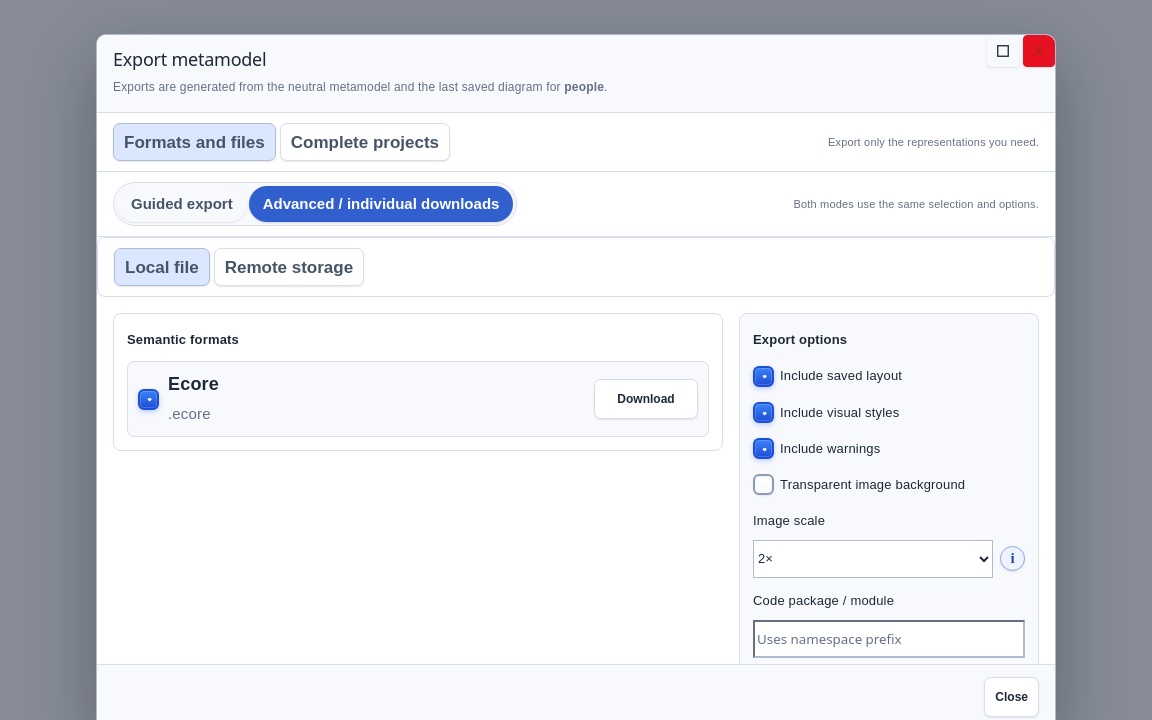
Scenario: complete metamodel project exports › requires an explicit editor when more than one stored editor can feed a graphical target
Click the button "Complete projects": click(365, 142) 280,123 -> 450,161
(page scrolled)
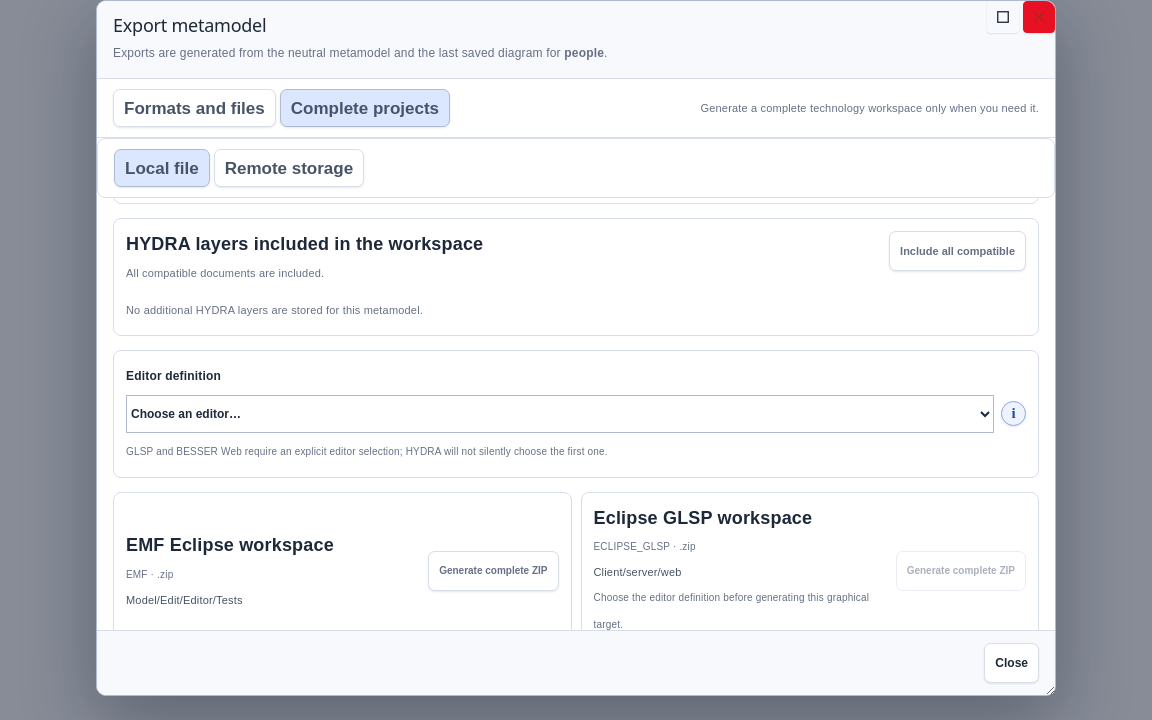
Result: the button "Generate complete ZIP" in the row of "Client/server/web" is disabled at 896,551 -> 1026,591
Select "Editor · B" in the dropdown named "Editor definition for complete project": (560, 414) 126,395 -> 994,433
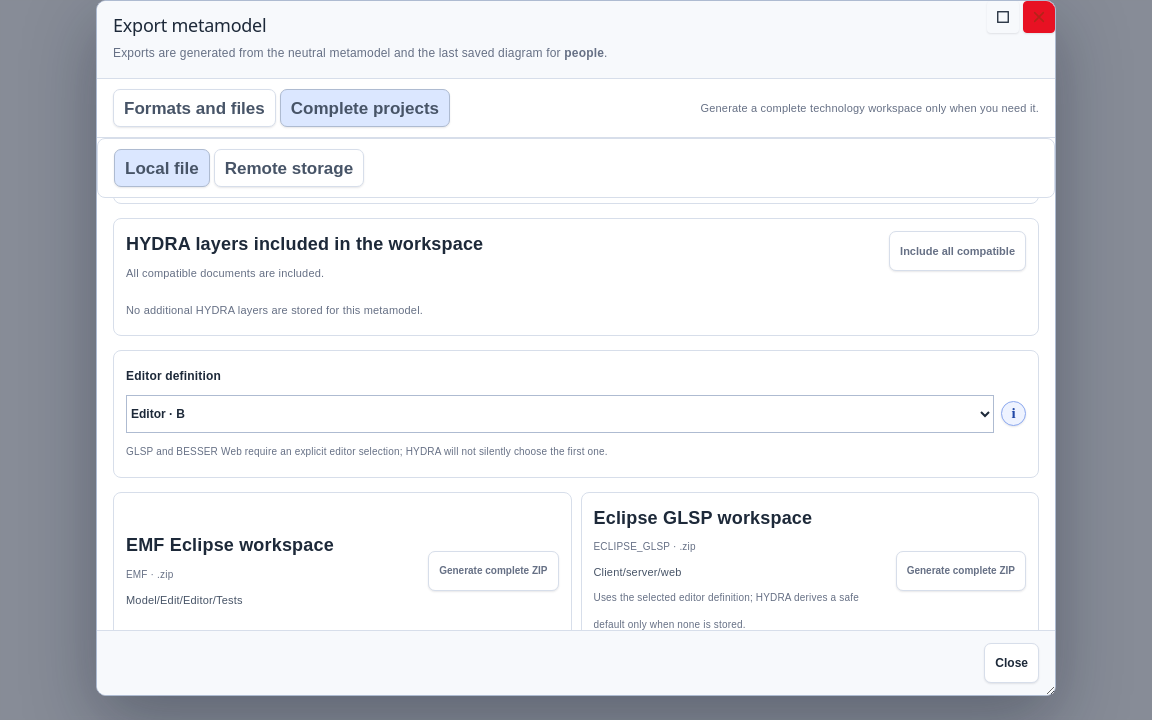
Result: the button "Generate complete ZIP" in the row of "Client/server/web" is enabled at 896,551 -> 1026,591
